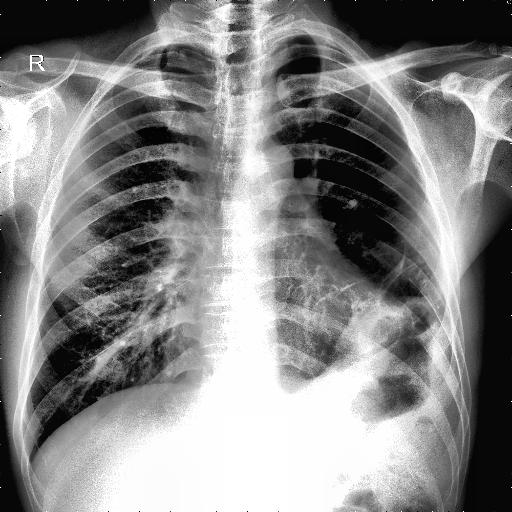10- Pleural effusion: (314, 272, 460, 422)
13- Pulmonary fibrosis: (378, 232, 420, 300), (377, 248, 417, 306), (374, 241, 407, 301)
3- Cardiomegaly: (196, 289, 396, 408)
4- Consolidation: (337, 300, 438, 378)
6- Infiltration: (337, 300, 438, 378)
7- Lung Opacity: (337, 300, 438, 378), (401, 284, 461, 374)
9- Other lesion: (336, 296, 456, 388), (264, 276, 344, 392)
